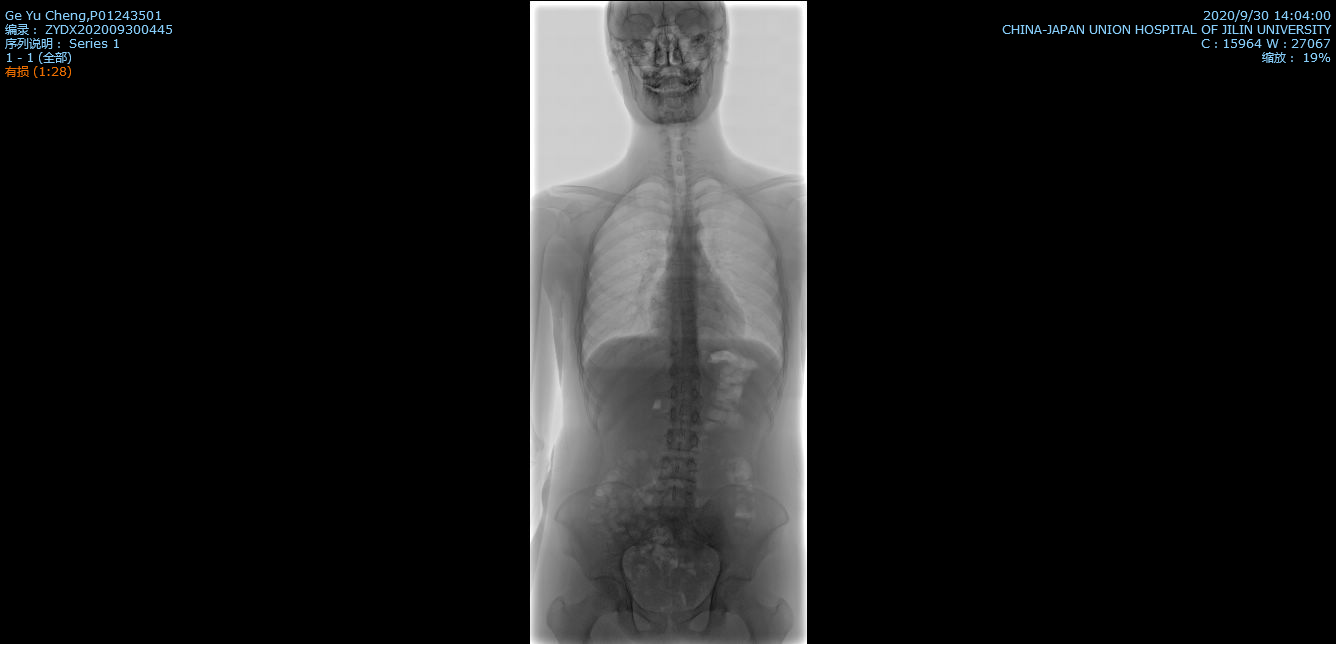胸10椎体: (672, 320, 697, 336)
胸11椎体: (671, 339, 697, 356)
胸12椎体: (670, 361, 699, 376)
胸7椎体: (670, 264, 694, 278)
胸8椎体: (669, 282, 696, 298)
胸9椎体: (670, 302, 697, 316)
腰1椎体: (671, 381, 700, 398)
腰2椎体: (669, 404, 699, 424)
腰3椎体: (667, 429, 700, 449)
腰4椎体: (660, 457, 696, 479)
腰5椎体: (656, 488, 692, 511)
